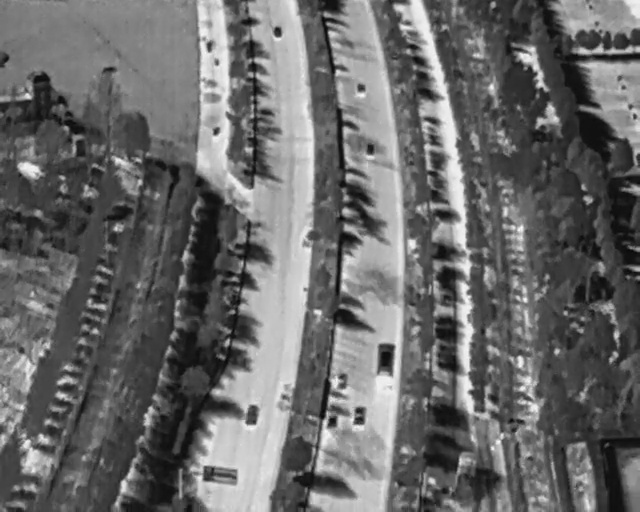Car: (245, 403, 259, 427), (335, 371, 348, 388), (355, 406, 365, 425), (366, 142, 375, 156), (273, 25, 282, 37), (357, 82, 365, 94)
OtherVehicle: (378, 342, 395, 377)
